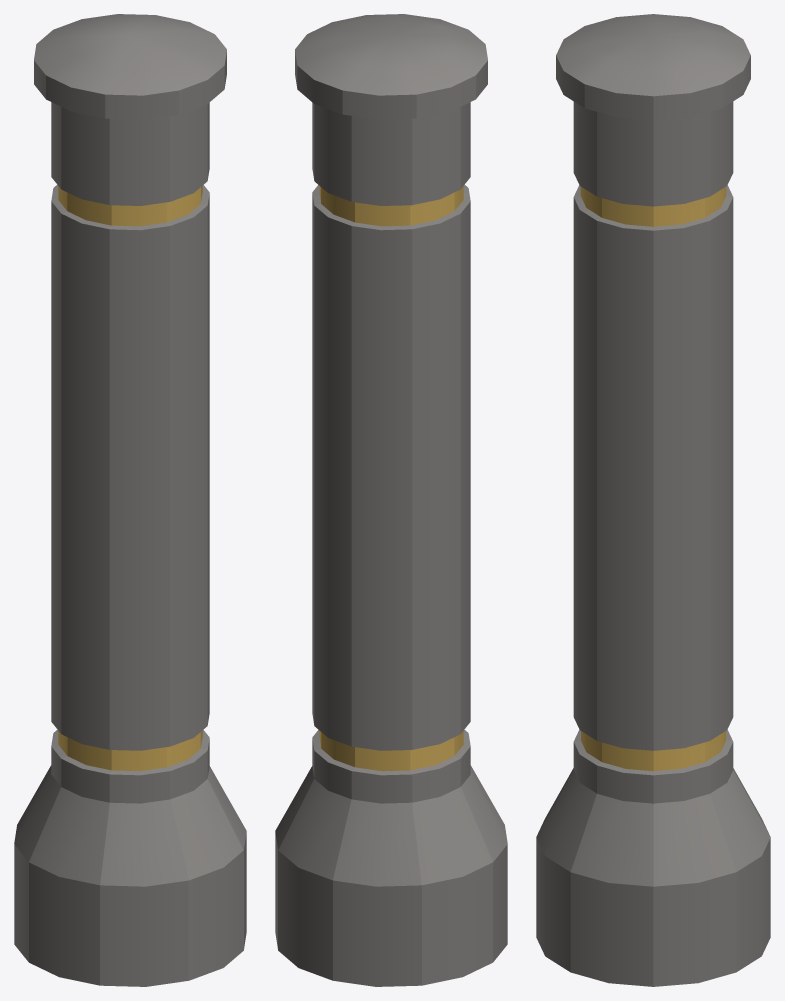
The model's file is Bollard-Road-Harbour_01.fbx.
The picture shows the model from 3 angles, left to right: view 1: azimuth 30°, elevation 25°; view 2: azimuth 150°, elevation 25°; view 3: azimuth 270°, elevation 25°; orthographic projection.
Parts seen in each view (by area): view 1: Bollard_Road; view 2: Bollard_Road; view 3: Bollard_Road.
Part boxes in pixels (x1,y1,x2,y2): Bollard_Road: [14, 14, 246, 986]; Bollard_Road: [275, 14, 507, 986]; Bollard_Road: [536, 14, 770, 986].
Size of the model in its own units: 0.2311 by 0.981 by 0.2311.
